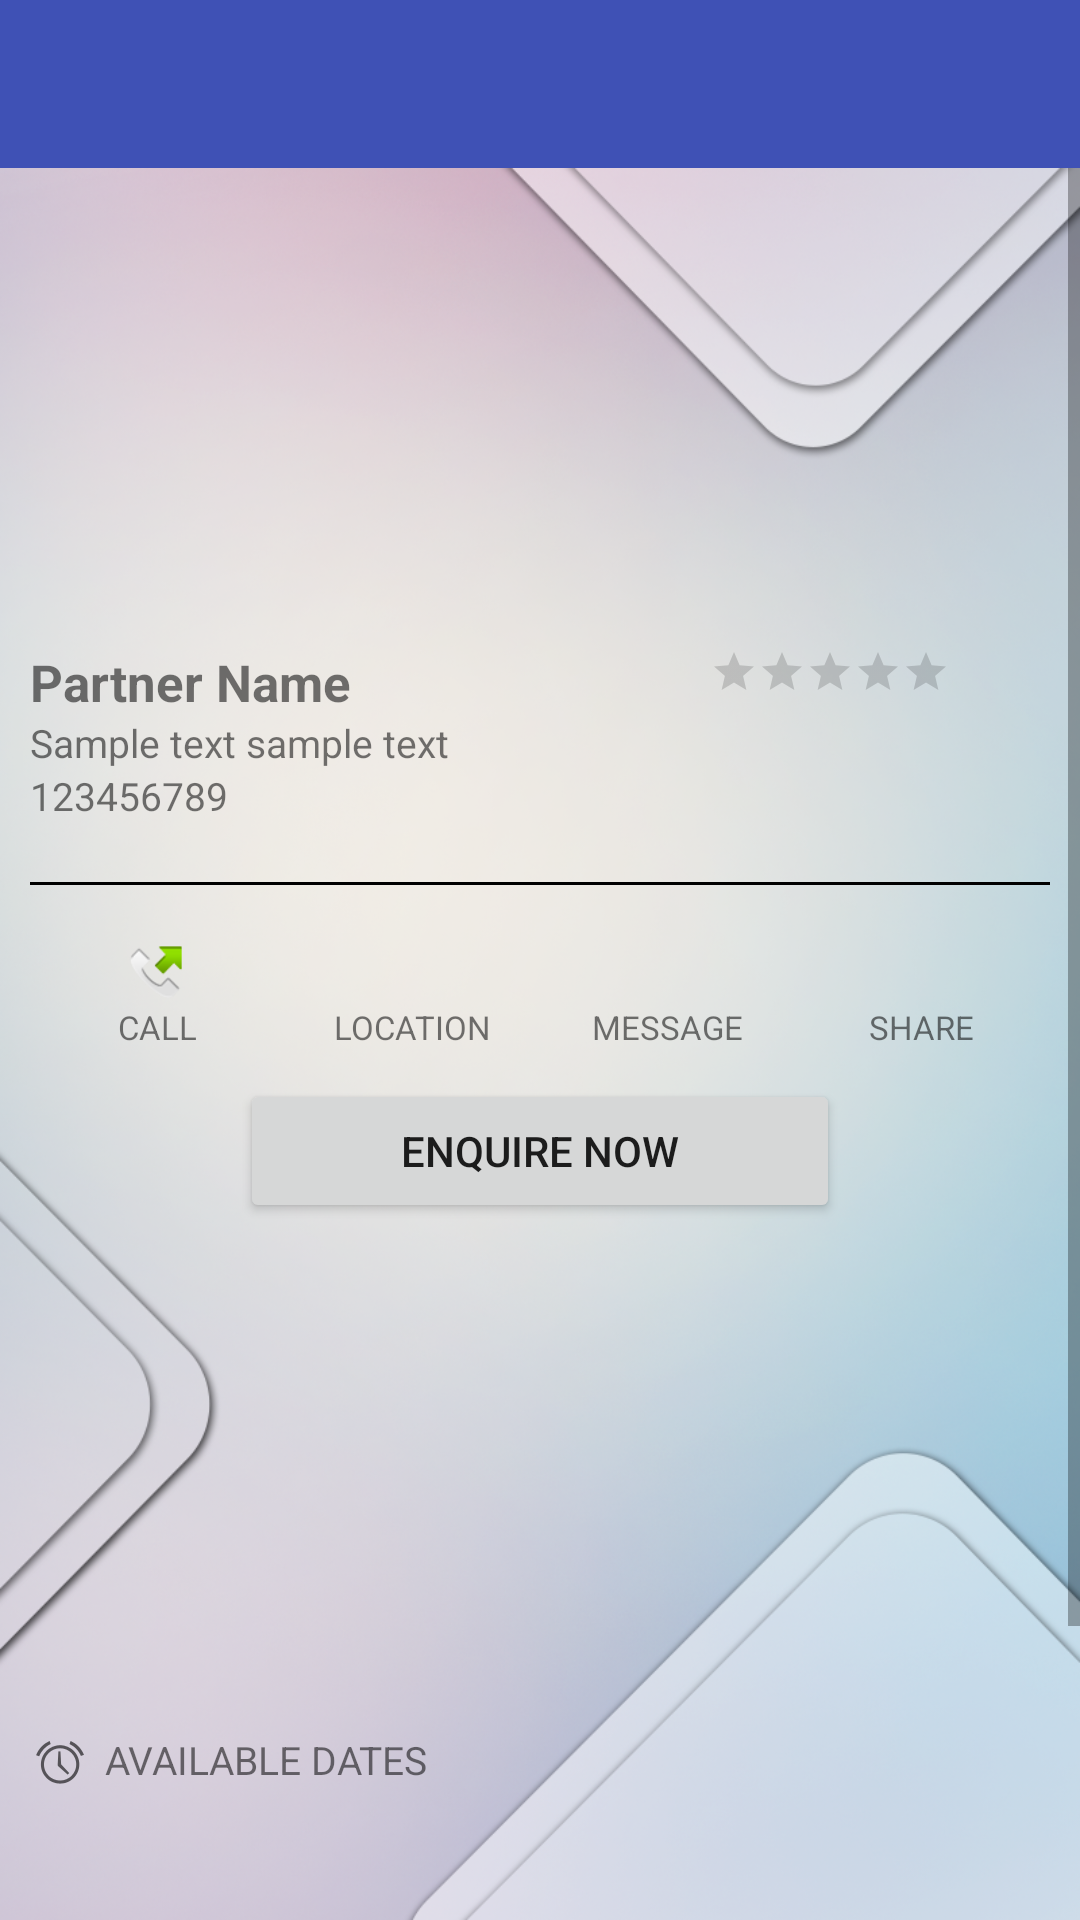

Icons on this 1080×1920 Android screen, each with the point to tap as point (x, y):
lock idle alarm: point (60, 1762)
